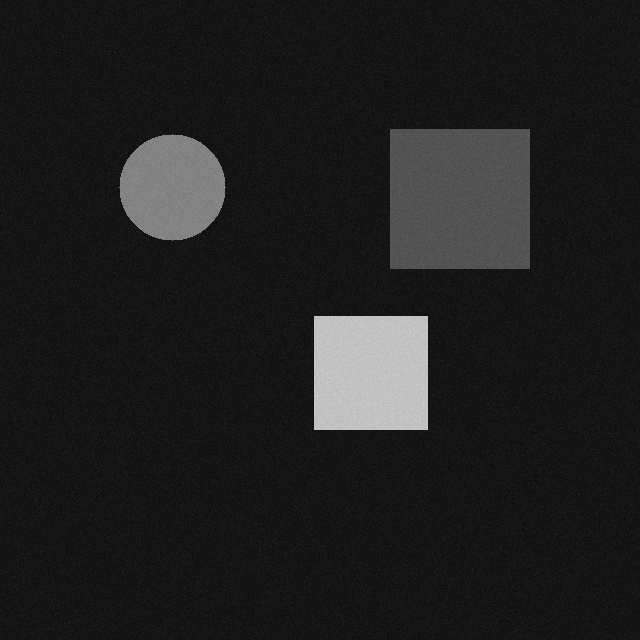circle: (120, 134, 226, 240)
square: (391, 129, 530, 268), (315, 316, 428, 429)
